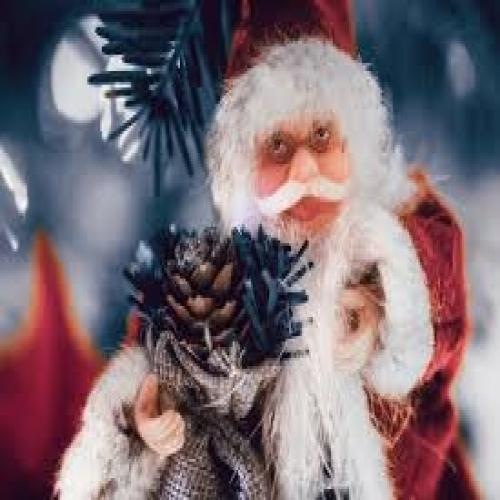Santa: (216, 0, 480, 500)
